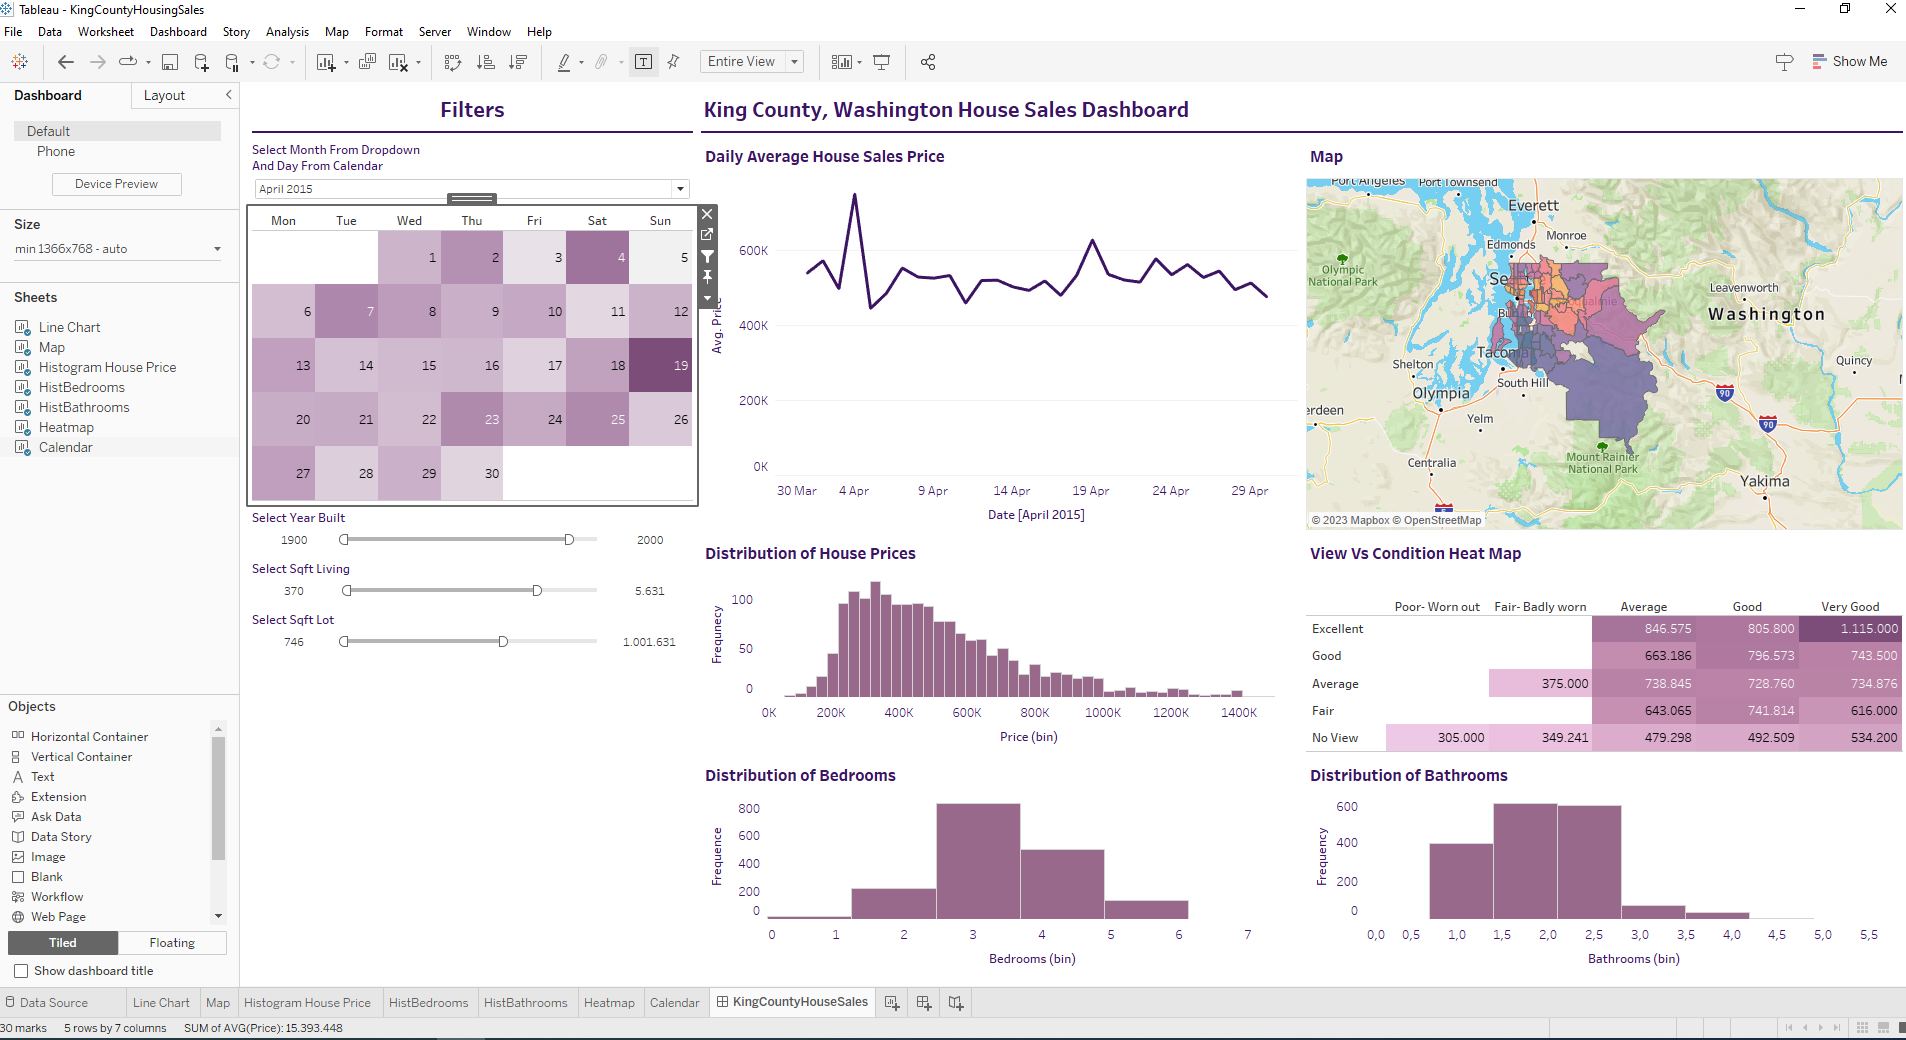

The dashboard page shown, as its layout file describes it:
{"tool":"tableau","page":{"name":"KingCountyHouseSales","canvas":[1000,1000],"units":"permille","ordinal":0},"visuals":[{"type":"text","box":[4.8,8.8,267.9,40.9]},{"type":"text","box":[272.6,8.8,722.6,40.9]},{"type":"blank","box":[4.8,49.8,267.9,11.1]},{"type":"blank","box":[272.6,49.8,722.6,11.1]},{"type":"filter","title":"Calendar","param":"[federated.1qmfugy15nq3eb1dauahk1y67ohh].[my:date:ok]","box":[4.8,60.8,267.9,76.3]},{"type":"worksheet","title":"Line Chart","mark":"Automatic","rows":["price"],"cols":["date"],"box":[272.6,60.8,361.4,439.2]},{"type":"worksheet","title":"Map","mark":"Automatic","box":[634,60.8,361.2,439.2]},{"type":"worksheet","title":"Calendar","mark":"Square","rows":["date"],"cols":["date"],"box":[4.8,137.2,267.9,330.8]},{"type":"filter","title":"Calendar","param":"[federated.1qmfugy15nq3eb1dauahk1y67ohh].[none:yr_built:qk]","box":[4.8,467.9,267.9,56.4]},{"type":"worksheet","title":"Histogram House Price","mark":"Automatic","rows":["price"],"cols":["Price (bin)"],"box":[272.6,500,361.3,245.6]},{"type":"worksheet","title":"Heatmap","mark":"Square","rows":["view"],"cols":["condition"],"box":[633.9,500,361.3,245.6]},{"type":"filter","title":"Calendar","param":"[federated.1qmfugy15nq3eb1dauahk1y67ohh].[none:sqft_living:qk]","box":[4.8,524.3,267.9,56.4]},{"type":"filter","title":"Calendar","param":"[federated.1qmfugy15nq3eb1dauahk1y67ohh].[none:sqft_lot:qk]","box":[4.8,580.8,267.9,56.4]},{"type":"worksheet","title":"HistBedrooms","mark":"Automatic","rows":["bedrooms"],"cols":["Bedrooms (bin)"],"box":[272.6,745.6,361.3,245.6]},{"type":"worksheet","title":"HistBathrooms","mark":"Automatic","rows":["bathrooms"],"cols":["Bathrooms (bin)"],"box":[633.9,745.6,361.3,245.6]}]}

Visuals, with their boxes on the dashboard's canvas, which has no fixed pixel size, in thousandths of its width and height (x1, y1, x2, y2). These are canvas units, not pixel positions in the 1906x1040 screenshot, which may show the page scaled, cropped or inside an application window:
text: {"x1": 5, "y1": 9, "x2": 273, "y2": 50}
text: {"x1": 273, "y1": 9, "x2": 995, "y2": 50}
blank: {"x1": 5, "y1": 50, "x2": 273, "y2": 61}
blank: {"x1": 273, "y1": 50, "x2": 995, "y2": 61}
"Calendar" filter: {"x1": 5, "y1": 61, "x2": 273, "y2": 137}
"Line Chart" worksheet: {"x1": 273, "y1": 61, "x2": 634, "y2": 500}
"Map" worksheet: {"x1": 634, "y1": 61, "x2": 995, "y2": 500}
"Calendar" worksheet (Square marks): {"x1": 5, "y1": 137, "x2": 273, "y2": 468}
"Calendar" filter: {"x1": 5, "y1": 468, "x2": 273, "y2": 524}
"Histogram House Price" worksheet: {"x1": 273, "y1": 500, "x2": 634, "y2": 746}
"Heatmap" worksheet (Square marks): {"x1": 634, "y1": 500, "x2": 995, "y2": 746}
"Calendar" filter: {"x1": 5, "y1": 524, "x2": 273, "y2": 581}
"Calendar" filter: {"x1": 5, "y1": 581, "x2": 273, "y2": 637}
"HistBedrooms" worksheet: {"x1": 273, "y1": 746, "x2": 634, "y2": 991}
"HistBathrooms" worksheet: {"x1": 634, "y1": 746, "x2": 995, "y2": 991}
